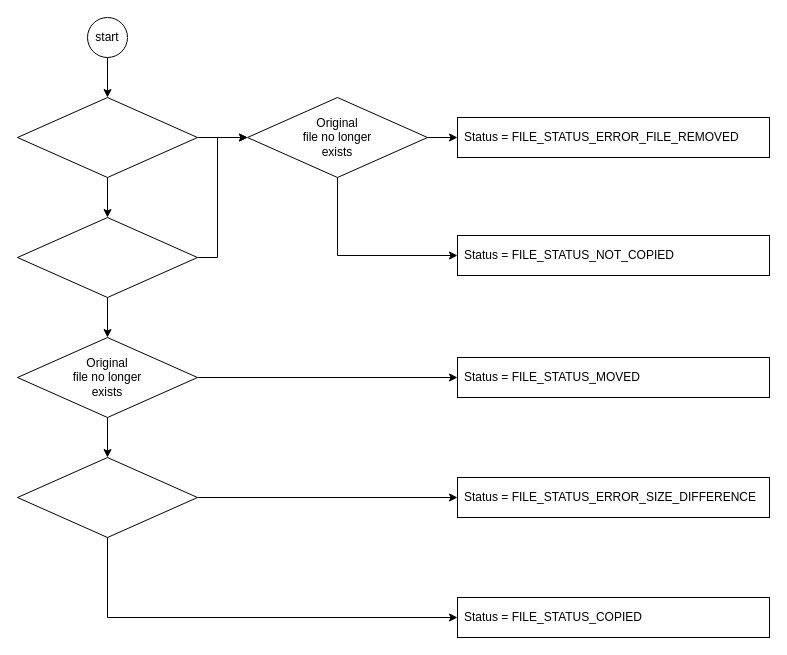
The diagram is 787 pixels wide and 655 high, and some of its shapes have lost their labels. Each missing label, with the centre of its shape:
"Target directory does not exist" goes at pixel 107 137.
"Target file does not exist" goes at pixel 107 257.
"Target file has different size" goes at pixel 107 497.
